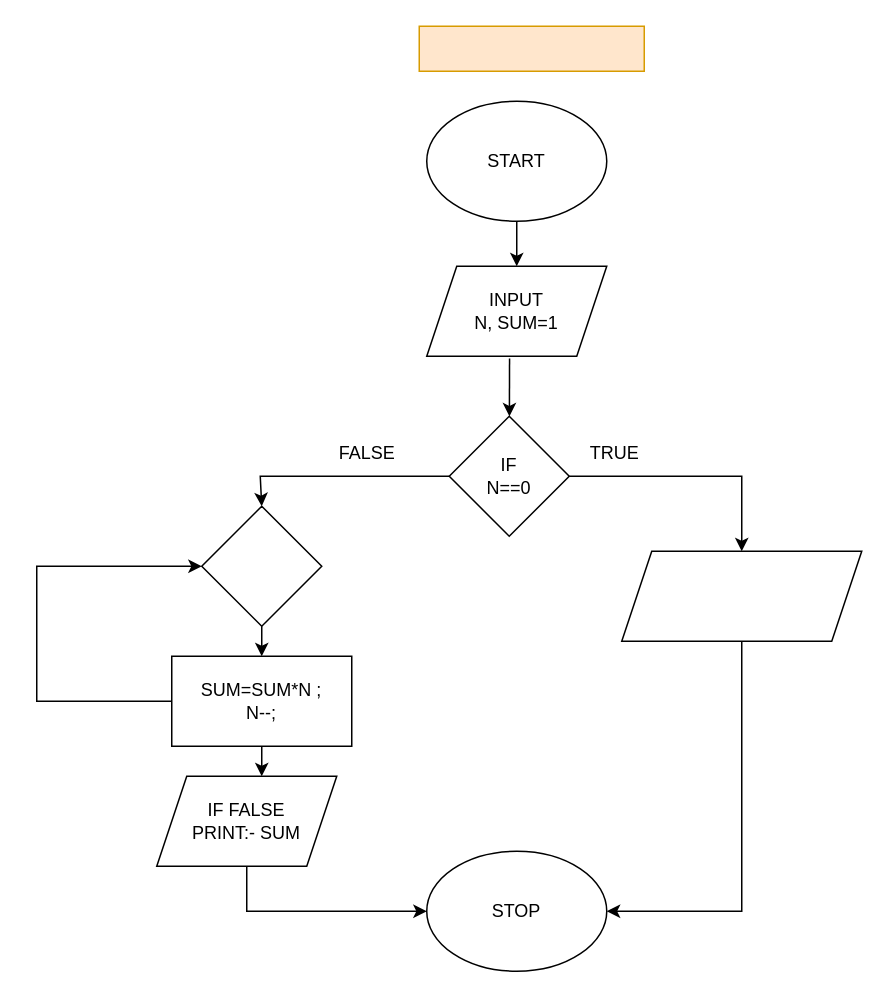
Image size: 888x998. Some labels were removed from this diagram. The shapes that lost their labels are listed below. From the top down, each one's box as (x1, y1, x2, y2) in pixels, then its label:
(418, 25, 644, 71): FACTORIAL PROGRAM
(200, 505, 322, 626): WHILE N>=1;
(620, 550, 862, 641): IF TRUE PRINT:- FACTORIAL IS 1
